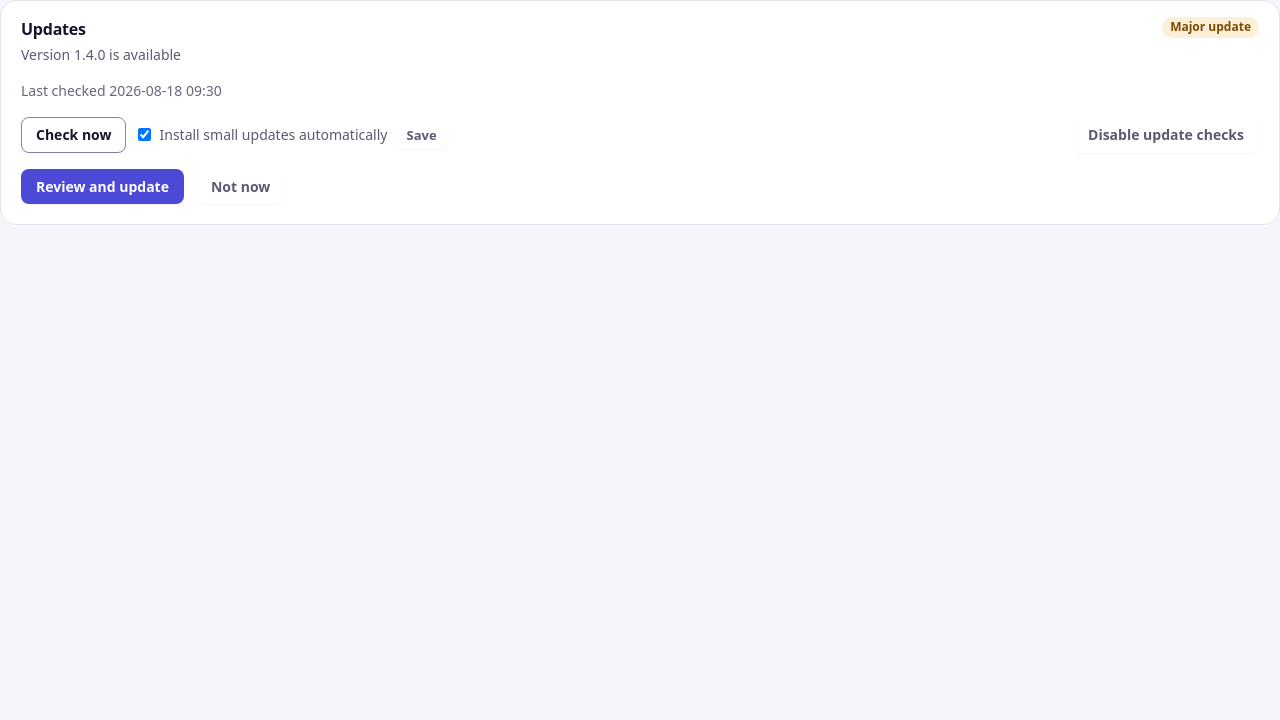
Test: M-7 (2026-09-02 review): duplicate group titles in one release do not collide on key › renders both same-titled groups without a React duplicate-key warning
Click the button "Review and update" at (102, 186), box [21, 168, 184, 204]
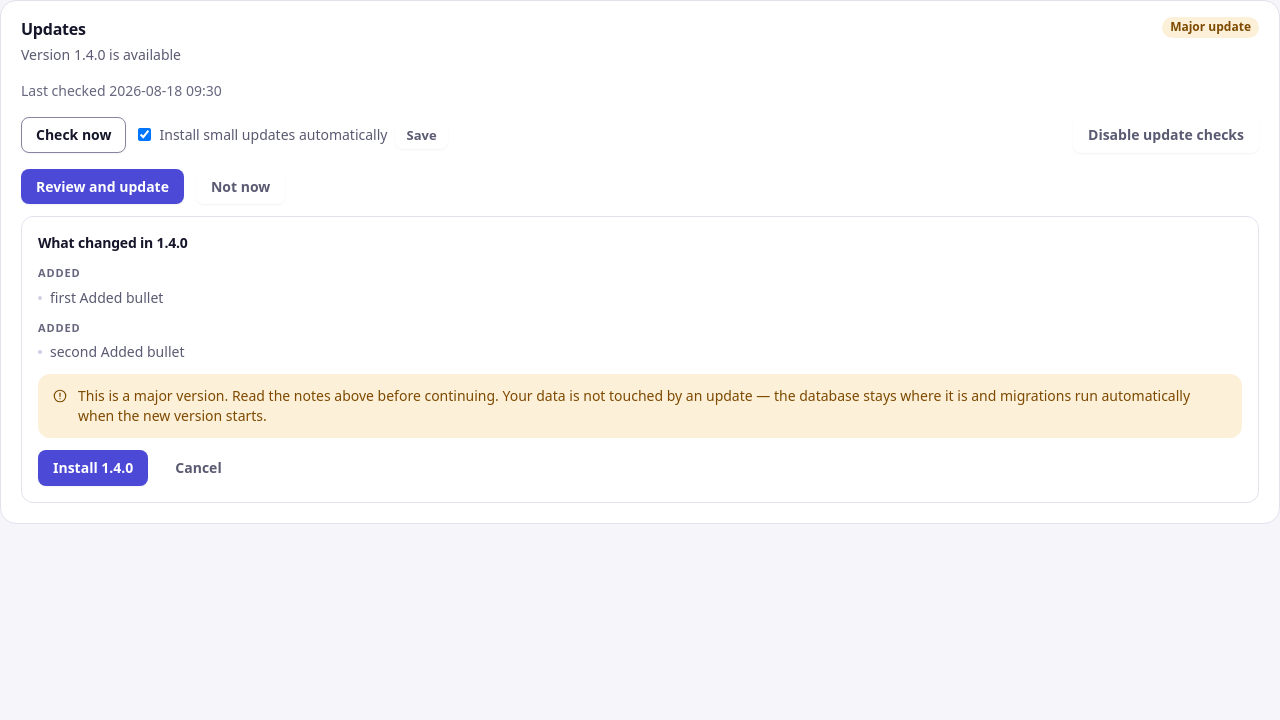
Now the text "second Added bullet" is shown, box [50, 342, 184, 362]
Now the text "first Added bullet" is shown, box [50, 288, 163, 308]
